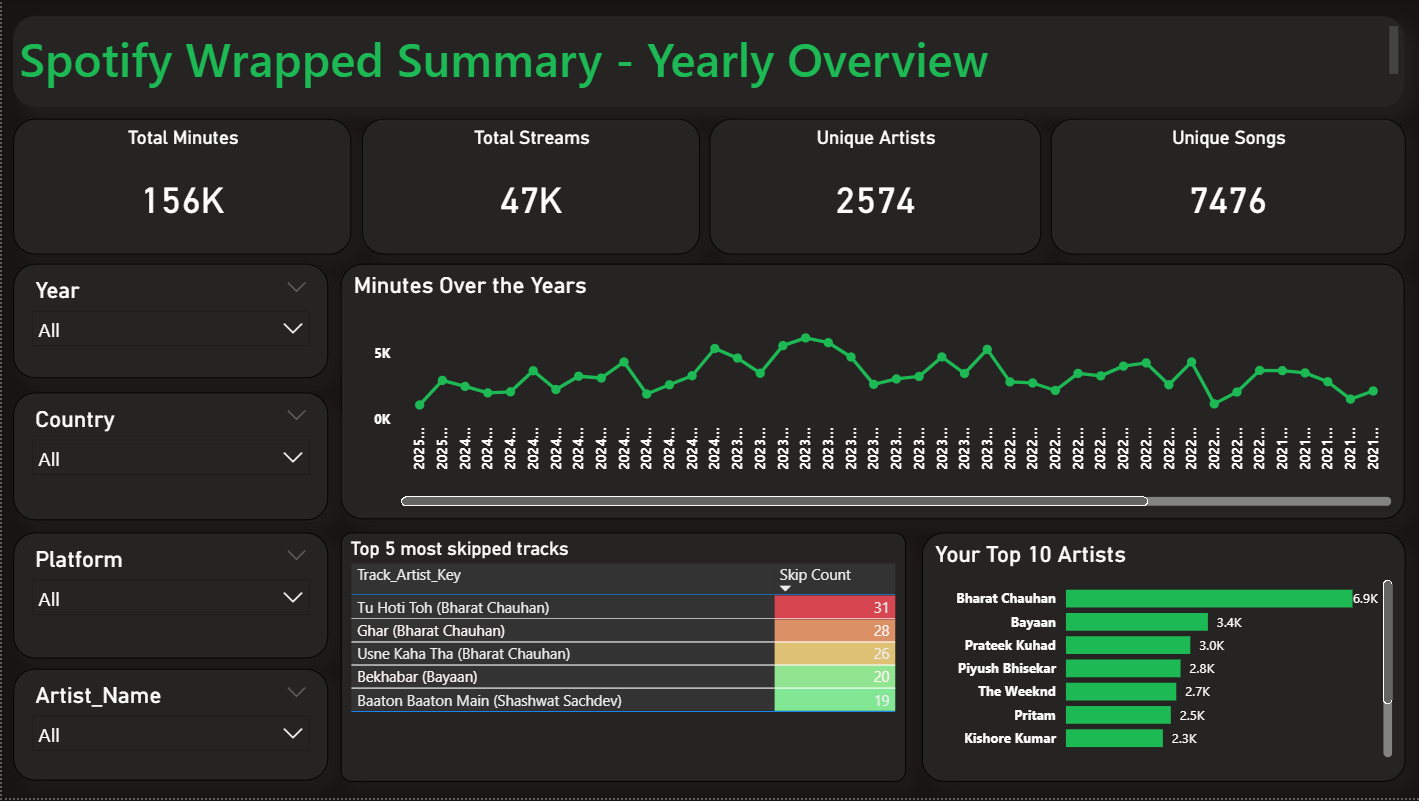

Layout of this report page (visuals, bound fields, positions):
{"tool":"powerbi","page":{"name":"Page 1","canvas":[1280,720],"ordinal":0},"visuals":[{"type":"card","fields":{"Values":["public spotify_wrapped.Total Streams"]},"box":[323.9,84.4,316.2,144.3],"z":0},{"type":"card","fields":{"Values":["public spotify_wrapped.Unique Artists"]},"box":[640.2,84.4,305.5,144.3],"z":1000},{"type":"card","fields":{"Values":["public spotify_wrapped.Unique Songs"]},"box":[945.6,84.4,334.7,144.3],"z":2000},{"type":"textbox","box":[0,0,1280.3,84.4],"z":3000},{"type":"lineChart","title":"Minutes Over the Years","fields":{"Category":["public spotify_wrapped.month"],"Y":["public spotify_wrapped.Total Minutes"]},"box":[323.9,228.7,956.4,239.5],"z":4000},{"type":"slicer","fields":{"Values":["public spotify_wrapped.conn_country"]},"box":[0,337.7,323.9,113.6],"z":5000},{"type":"slicer","fields":{"Values":["public spotify_wrapped.year"]},"box":[0,228.7,323.9,109],"z":6000},{"type":"slicer","fields":{"Values":["public spotify_wrapped.platform"]},"box":[0,451.3,323.9,142.8],"z":7000},{"type":"slicer","fields":{"Values":["public spotify_wrapped.artist_name"]},"box":[1.5,594.1,322.4,125.9],"z":8000},{"type":"card","fields":{"Values":["public spotify_wrapped.Total Minutes"]},"box":[0,84.4,323.9,144.3],"z":9000},{"type":"tableEx","title":"Top 5 most skipped tracks","fields":{"Values":["public spotify_wrapped.Track_Artist_Key","public spotify_wrapped.Skip Count"]},"box":[323.9,468.2,472.8,251.8],"z":10000},{"type":"barChart","title":"Your Top 10 Artists","fields":{"Category":["public spotify_wrapped.artist_name"],"Y":["public spotify_wrapped.Total Minutes"]},"box":[796.7,468.2,483.6,251.8],"z":11000}]}

Visuals, with their boxes in screenshot pixels (x1, y1, x2, y2), scaled from the page's 1280x720 canvas onto the 1419x801 screenshot:
card - public spotify_wrapped.Total Streams: 359/94/710/254
card - public spotify_wrapped.Unique Artists: 710/94/1048/254
card - public spotify_wrapped.Unique Songs: 1048/94/1418/254
textbox: 0/0/1418/94
"Minutes Over the Years" lineChart: 359/254/1418/521
slicer - public spotify_wrapped.conn_country: 0/376/359/502
slicer - public spotify_wrapped.year: 0/254/359/376
slicer - public spotify_wrapped.platform: 0/502/359/661
slicer - public spotify_wrapped.artist_name: 2/661/359/800
card - public spotify_wrapped.Total Minutes: 0/94/359/254
"Top 5 most skipped tracks" tableEx: 359/521/883/800
"Your Top 10 Artists" barChart: 883/521/1418/800
